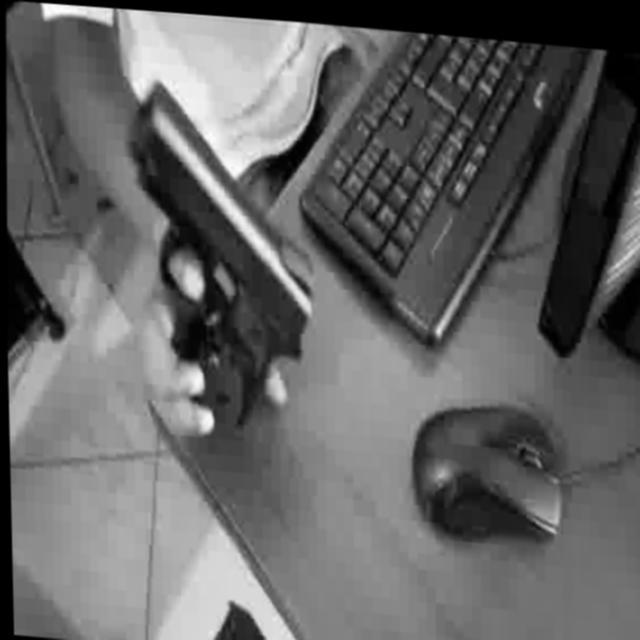weapon: (119, 74, 323, 440)
